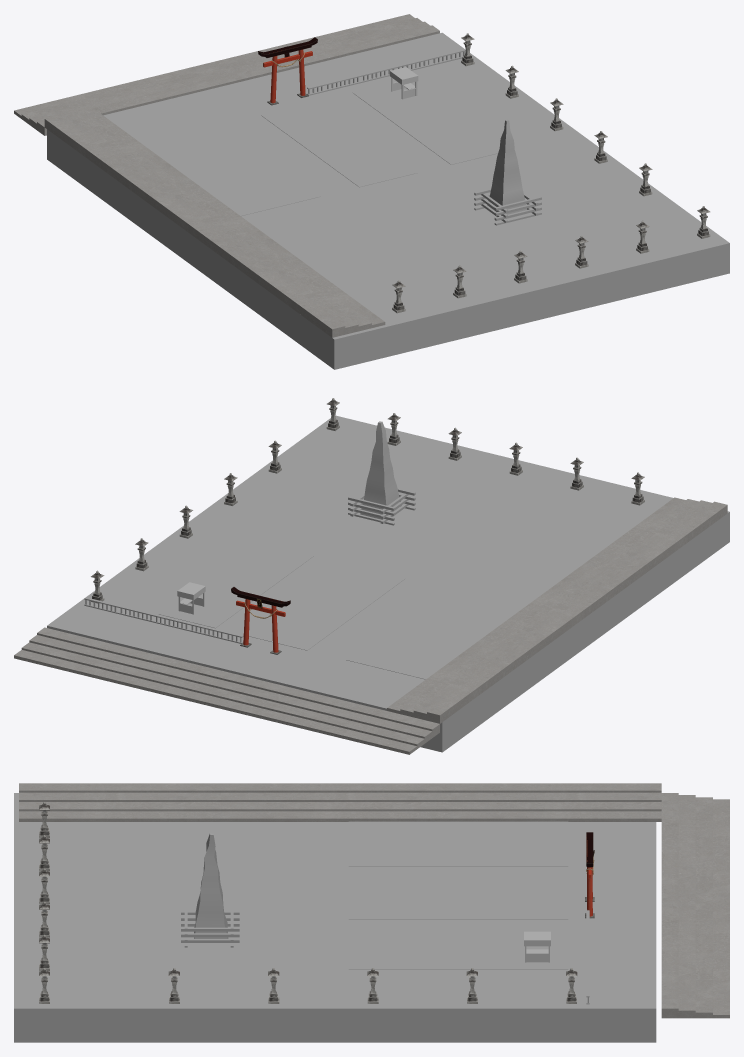
File: FestivalFull.fbx
3 views of the same model, one above another, from view 1: azimuth 30°, elevation 25°; view 2: azimuth 150°, elevation 25°; view 3: azimuth 270°, elevation 25° (orthographic). The views are drawn at different scales.
Visible parts, largest first — view 1: Floor, stairs, ShopGround, Box040, SM_Torii_Complete, WoodBox, Box038, Box036; view 2: Floor, stairs, ShopGround, Box040, SM_Torii_Complete, Box038, WoodBox, Box036; view 3: Floor, stairs, ShopGround, Box040, WoodBox, Box036, SM_Torii_Complete.
Part boxes in pixels (x1,y1,x2,y2): Floor: (47,32,729,369); stairs: (14,14,439,337); ShopGround: (142,82,499,216); Box040: (487,119,526,218); SM_Torii_Complete: (258,37,317,105); WoodBox: (474,188,541,225); Box038: (305,49,465,95); Box036: (390,67,418,99); Floor: (47,415,729,752); stairs: (14,497,727,754); ShopGround: (158,542,579,693); Box040: (360,421,400,519); SM_Torii_Complete: (231,587,290,654); Box038: (84,597,243,643); WoodBox: (348,488,415,525); Box036: (177,582,205,614); Floor: (14,793,656,1042); stairs: (19,783,729,1018); ShopGround: (348,821,568,969); Box040: (194,833,228,938); WoodBox: (181,903,239,947); Box036: (524,931,550,962); SM_Torii_Complete: (585,832,594,918).
Size of the model in its own units: 4383 by 1282 by 6151.
